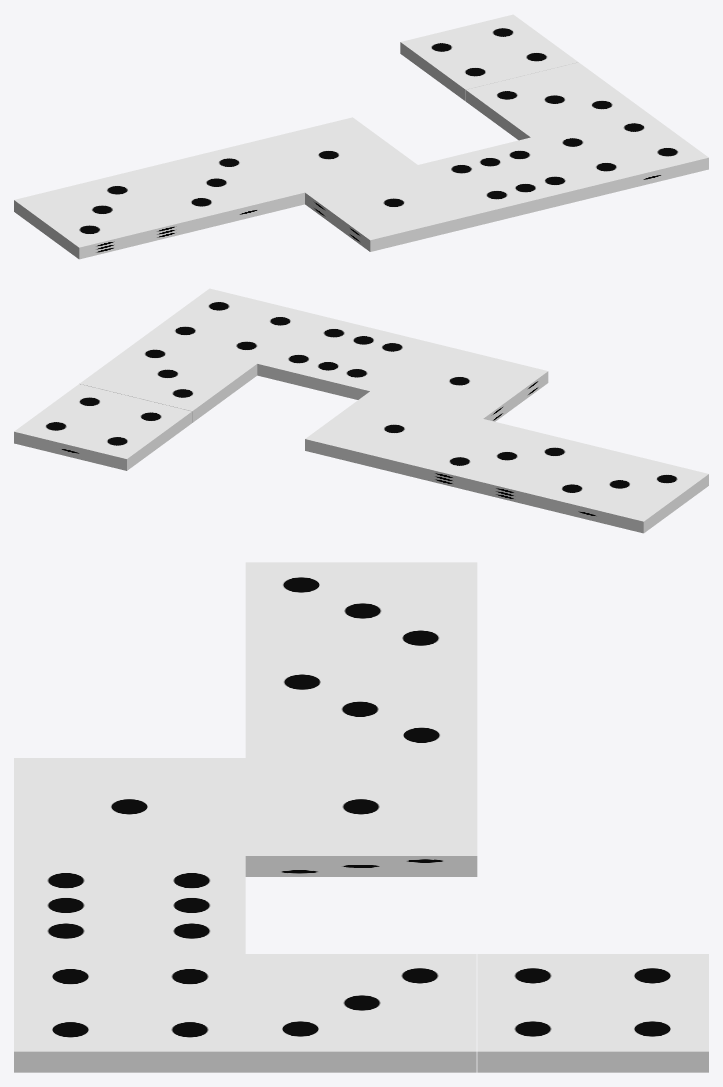
The model's file is blocks_1.glb.
3 views of the same model, one above another, from view 1: azimuth 30°, elevation 25°; view 2: azimuth 150°, elevation 25°; view 3: azimuth 270°, elevation 25° (orthographic). The views are drawn at different scales.
Parts seen in each view (by area): view 1: Cube.004, Cube, Cube.001, Cube.003, Cube.002, Cube.007, Cube.006, Cube.005; view 2: Cube.004, Cube.007, Cube.005, Cube.003, Cube.001, Cube.006, Cube, Cube.002; view 3: Cube.005, Cube.006, Cube.007, Cube.002, Cube.003, Cube.004, Cube, Cube.001.
Boxes of the visible parts, x1,y1,x2,y2 form: Cube.004: (14,172,191,259); Cube: (305,165,482,251); Cube.001: (418,137,595,224); Cube.003: (127,145,304,231); Cube.002: (531,110,708,196); Cube.007: (400,14,578,101); Cube.006: (466,62,643,140); Cube.005: (240,117,417,192); Cube.004: (531,446,708,533); Cube.007: (14,384,191,470); Cube.005: (305,391,482,478); Cube.003: (418,419,595,505); Cube.001: (257,316,434,399); Cube.006: (79,336,257,422); Cube: (370,343,548,421); Cube.002: (144,288,321,363); Cube.005: (245,758,477,876); Cube.006: (245,954,476,1072); Cube.007: (477,954,708,1072); Cube.002: (14,954,245,1072); Cube.003: (245,660,477,757); Cube.004: (245,562,477,659); Cube: (14,758,245,855); Cube.001: (14,856,245,953).
Size of the model in its own units: 10 by 0.2 by 6.
Materials: 1 (1 with a texture image).
